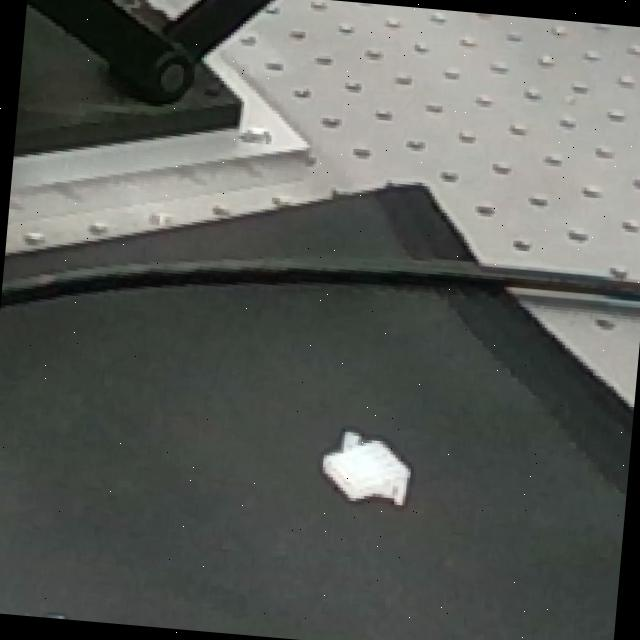Target: (303, 418, 427, 524), (0, 601, 96, 622)
